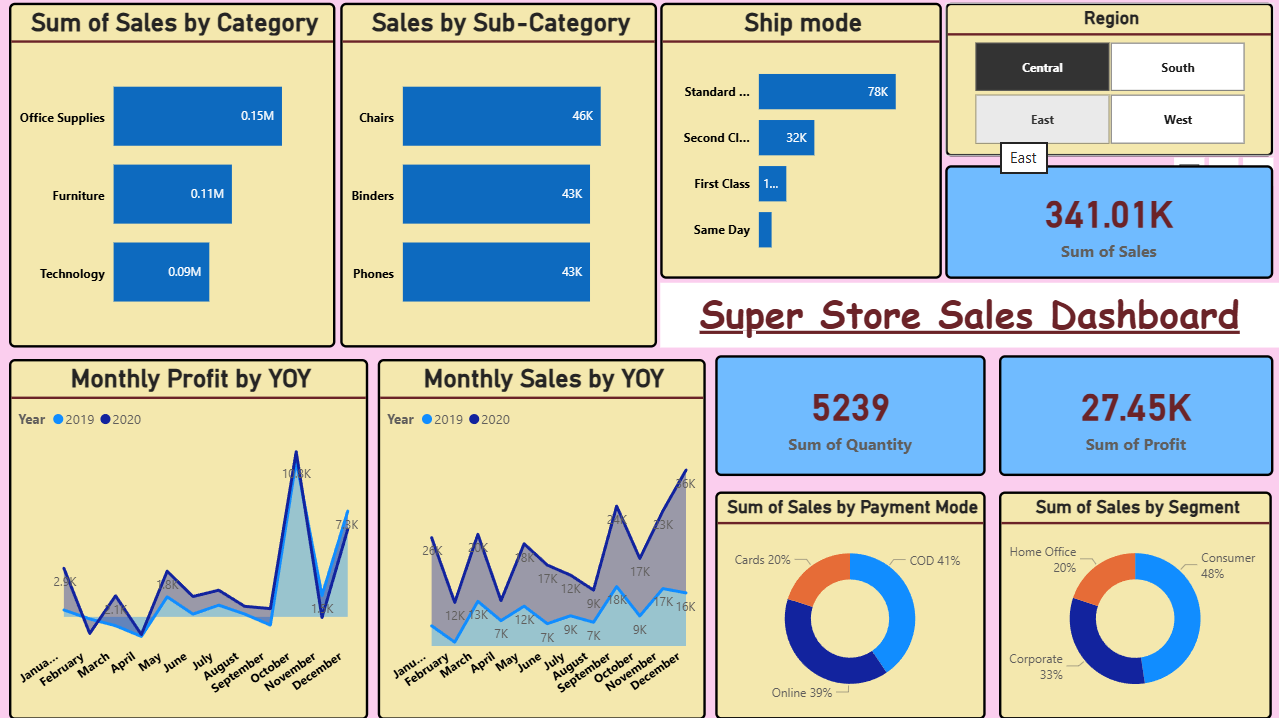

What the dashboard file says about the page in this screenshot:
{"tool":"powerbi","page":{"name":"Page 1","canvas":[1280,720],"ordinal":0},"visuals":[{"type":"barChart","fields":{"Category":["Sheet1.Category"],"Y":["Sum(Sheet1.Sales)"]},"box":[9.6,4.1,326.6,344.4],"z":0},{"type":"barChart","title":"Sales by Sub-Category","fields":{"Category":["Sheet1.Sub-Category"],"Y":["Sum(Sheet1.Sales)"]},"box":[341.7,4.1,317,344.4],"z":1000},{"type":"barChart","title":"Ship mode","fields":{"Category":["Sheet1.Ship Mode"],"Y":["Sum(Sheet1.Sales)"]},"box":[661.4,4.1,281.3,275.8],"z":2000},{"type":"stackedAreaChart","title":"Monthly Sales by YOY","fields":{"Category":["Sheet1.Order Date.Variation.Date Hierarchy.Month","Sheet1.Order Date.Variation.Date Hierarchy.Day"],"Y":["Sum(Sheet1.Sales)"],"Series":["Sheet1.Order Date.Variation.Date Hierarchy.Year"]},"box":[378.7,359.5,328,360.9],"z":3000},{"type":"stackedAreaChart","title":"Monthly Profit by YOY","fields":{"Category":["Sheet1.Order Date.Variation.Date Hierarchy.Month","Sheet1.Order Date.Variation.Date Hierarchy.Day"],"Series":["Sheet1.Order Date.Variation.Date Hierarchy.Year"],"Y":["Sum(Sheet1.Profit)"]},"box":[9.6,359.5,359.5,360.9],"z":4000},{"type":"donutChart","fields":{"Category":["Sheet1.Segment"],"Y":["Sum(Sheet1.Sales)"]},"box":[1000.3,492.2,273.1,227.8],"z":6000},{"type":"donutChart","fields":{"Category":["Sheet1.Payment Mode","Sheet1.Segment"],"Y":["Sum(Sheet1.Sales)"]},"box":[716.3,492.6,270.3,227.8],"z":7000},{"type":"slicer","title":"Region","fields":{"Values":["Sheet1.Region"]},"box":[946.8,4.1,328,153.7],"z":8000},{"type":"textbox","box":[661.4,284,618.9,64.5],"z":9000},{"type":"card","fields":{"Values":["Sum(Sheet1.Sales)"]},"box":[946.8,166,328,113.9],"z":10000},{"type":"card","fields":{"Values":["Sum(Sheet1.Quantity)"]},"box":[716.3,356.8,270.3,120.8],"z":11000},{"type":"card","fields":{"Values":["Sum(Sheet1.Profit)"]},"box":[1000.3,356.8,274.4,120.8],"z":12000}]}

Visuals, with their boxes in screenshot pixels (x1, y1, x2, y2), scaled from the page's 1280x720 canvas onto the 1279x718 screenshot:
barChart - Sheet1.Category x Sum(Sheet1.Sales): select_region(10, 4, 336, 348)
"Sales by Sub-Category" barChart: select_region(341, 4, 658, 348)
"Ship mode" barChart: select_region(661, 4, 942, 279)
"Monthly Sales by YOY" stackedAreaChart: select_region(378, 359, 706, 717)
"Monthly Profit by YOY" stackedAreaChart: select_region(10, 359, 369, 717)
donutChart - Sheet1.Segment x Sum(Sheet1.Sales): select_region(1000, 491, 1272, 717)
donutChart - Sheet1.Payment Mode x Sheet1.Segment: select_region(716, 491, 986, 717)
"Region" slicer: select_region(946, 4, 1274, 157)
textbox: select_region(661, 283, 1278, 348)
card - Sum(Sheet1.Sales): select_region(946, 166, 1274, 279)
card - Sum(Sheet1.Quantity): select_region(716, 356, 986, 476)
card - Sum(Sheet1.Profit): select_region(1000, 356, 1274, 476)
